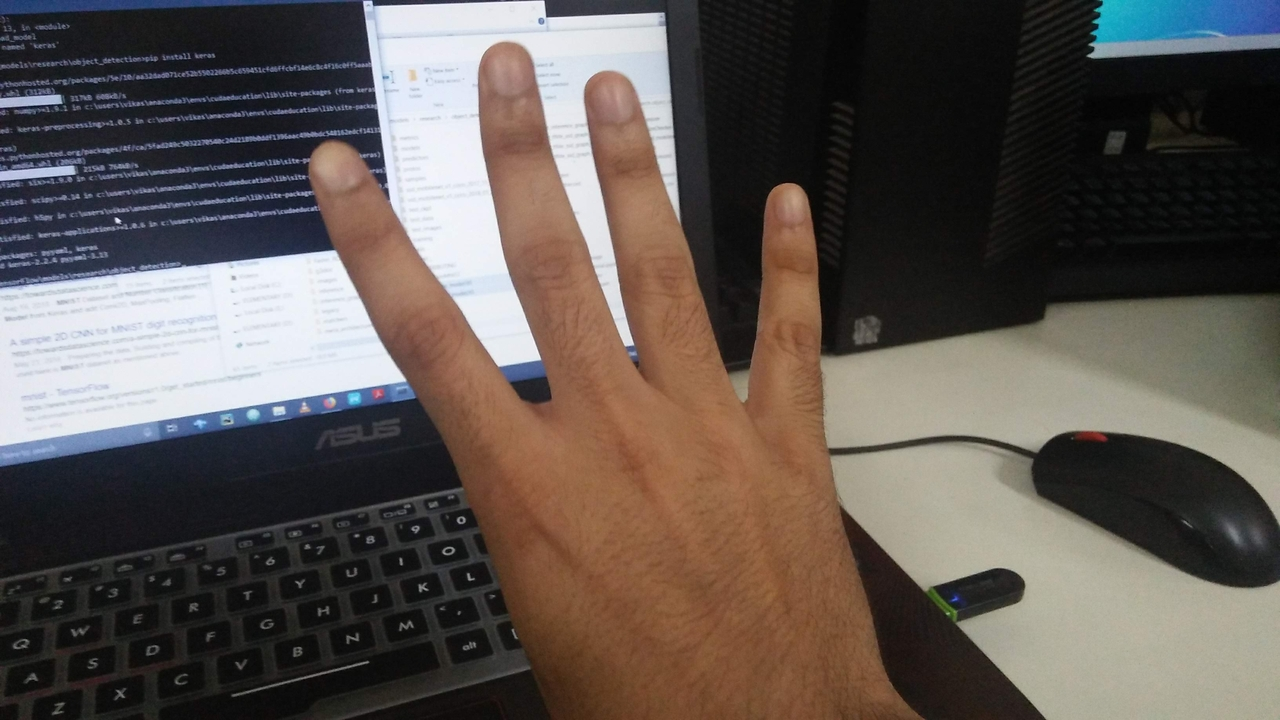fingertip: (294, 132, 368, 194), (578, 66, 646, 124), (758, 176, 818, 236), (478, 42, 538, 98)
